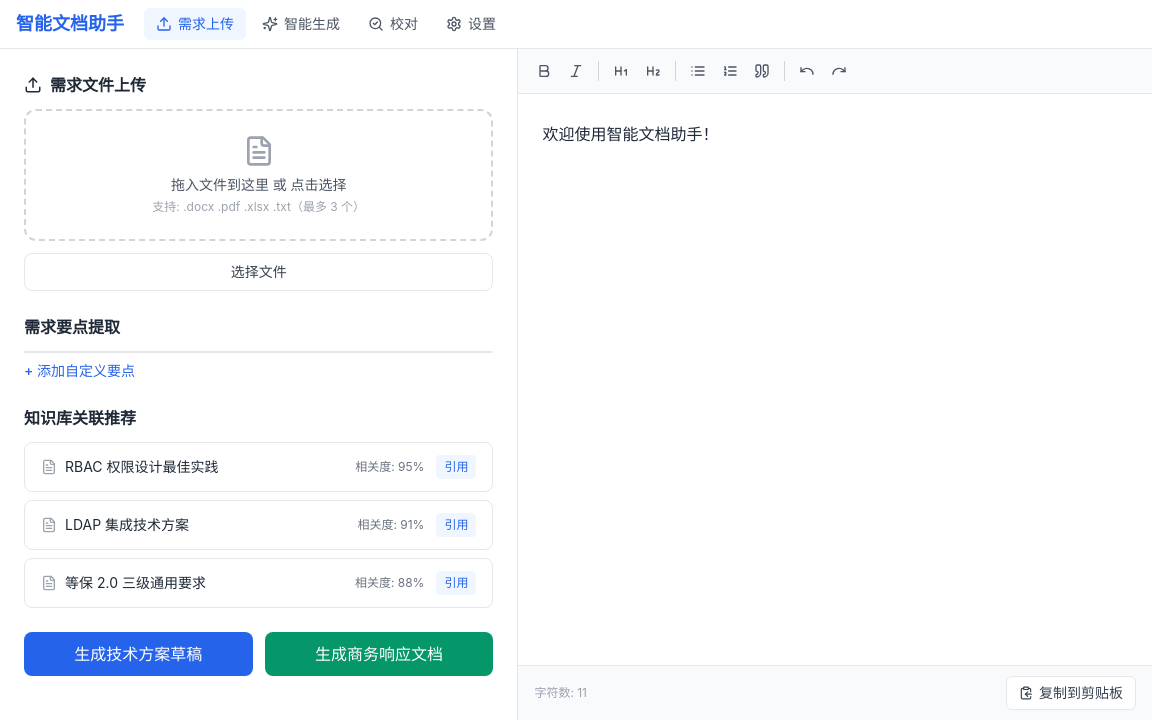
Test: App › switches to check tab and shows deviation panel
The width and height of the screenshot is (1152, 720).
Click the button "校对": (393,24) x1=356 y1=8 x2=430 y2=40
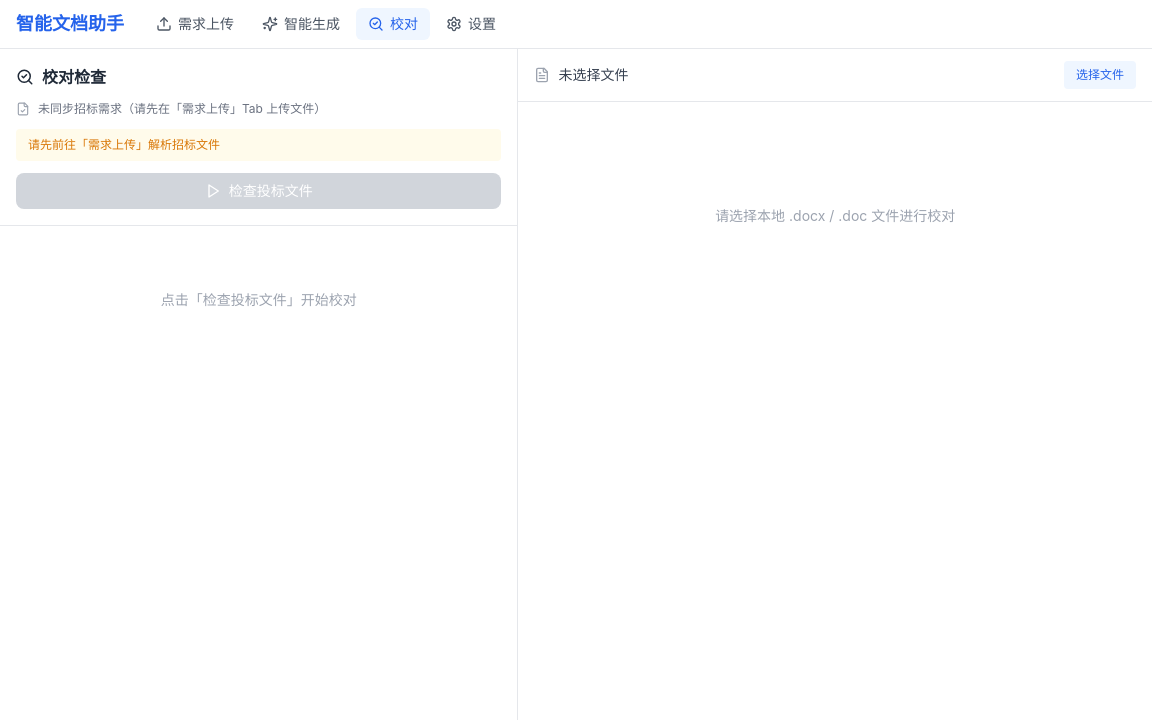
Expected: the heading "校对检查" is shown, x1=16 y1=65 x2=106 y2=89
Expected: the button "检查投标文件" is shown, x1=16 y1=173 x2=501 y2=209
